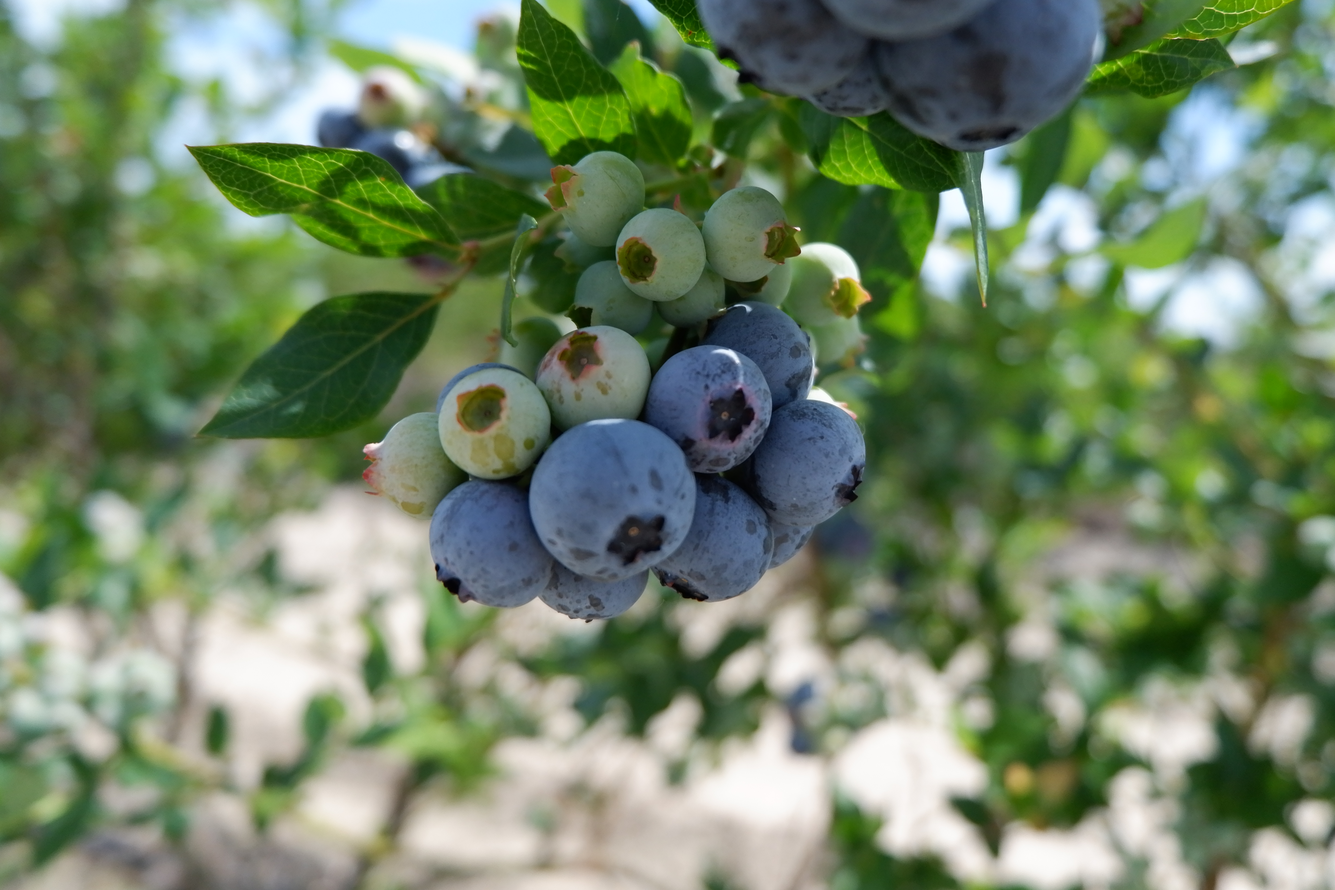Immature: (438, 369, 549, 476), (538, 327, 647, 429), (365, 416, 463, 515), (545, 154, 643, 244), (706, 188, 796, 279), (619, 211, 703, 299), (786, 246, 863, 325), (576, 263, 654, 335), (488, 317, 562, 385), (656, 264, 727, 324), (726, 264, 791, 306), (556, 229, 604, 274)
Mature: (871, 1, 1107, 152), (533, 420, 692, 576), (697, 1, 863, 100), (645, 347, 771, 468), (431, 480, 549, 607), (652, 474, 771, 599), (750, 401, 863, 524), (702, 303, 812, 411), (821, 1, 986, 40), (539, 561, 647, 620), (804, 39, 886, 115), (435, 362, 529, 414), (767, 506, 814, 568)
